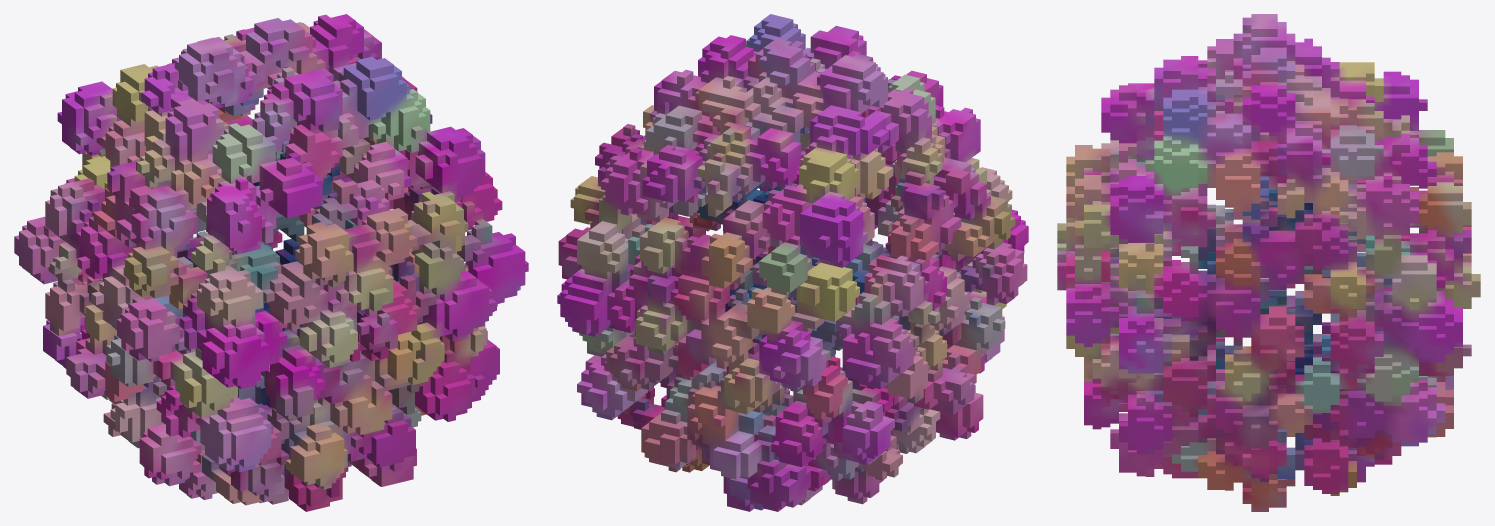
File: 1000_im_raum_verteilt_1113143917.obj
The picture shows the model from 3 angles, left to right: view 1: azimuth 30°, elevation 25°; view 2: azimuth 150°, elevation 25°; view 3: azimuth 270°, elevation 25°; orthographic projection. The views are drawn at different scales.
Parts seen in each view (by area): view 1: Mesh_0; view 2: Mesh_0; view 3: Mesh_0.
Boxes of the visible parts, x1,y1,x2,y2 form: Mesh_0: (14, 14, 528, 511); Mesh_0: (557, 14, 1028, 511); Mesh_0: (1057, 14, 1480, 511).
Size of the model in its own units: 1.58 by 1.84 by 1.58.
